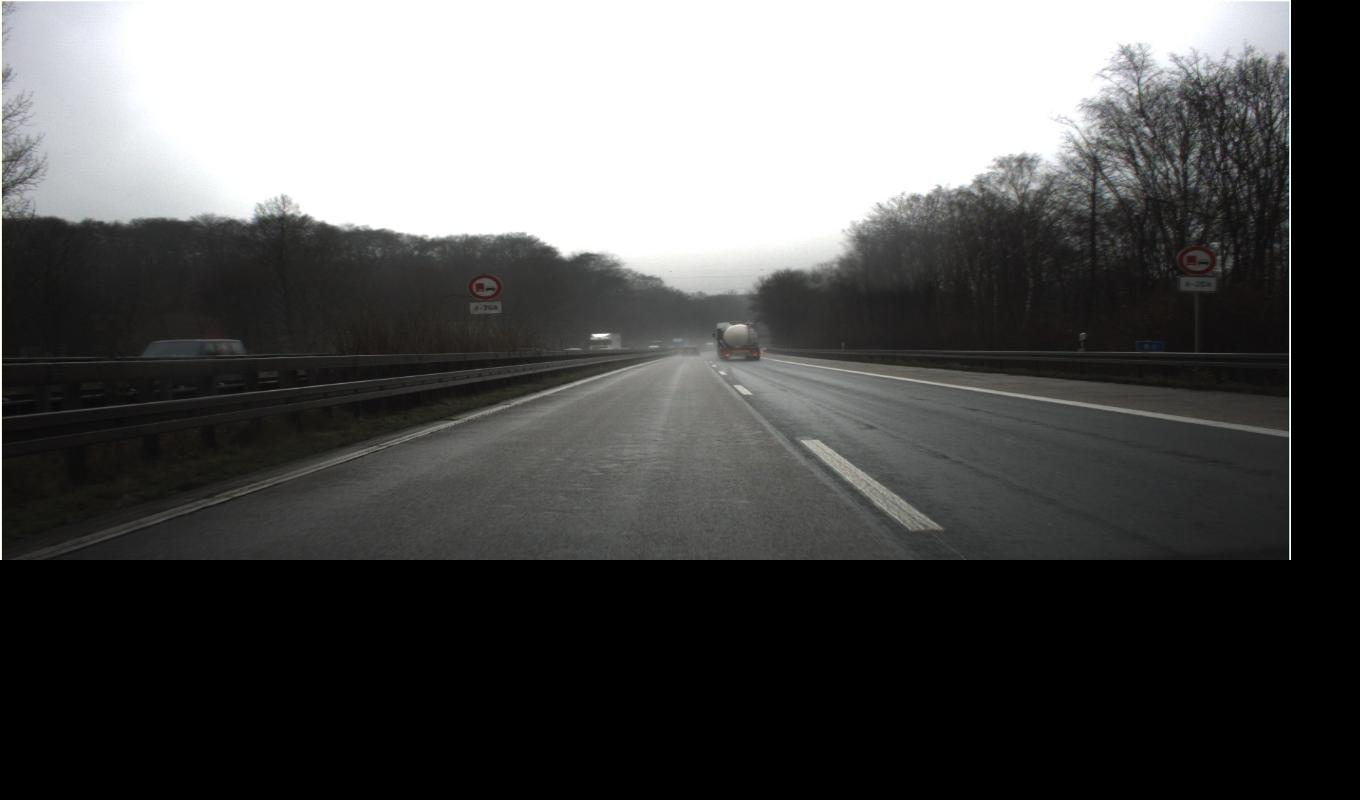no overtaking (trucks): (466, 244, 1217, 301)
